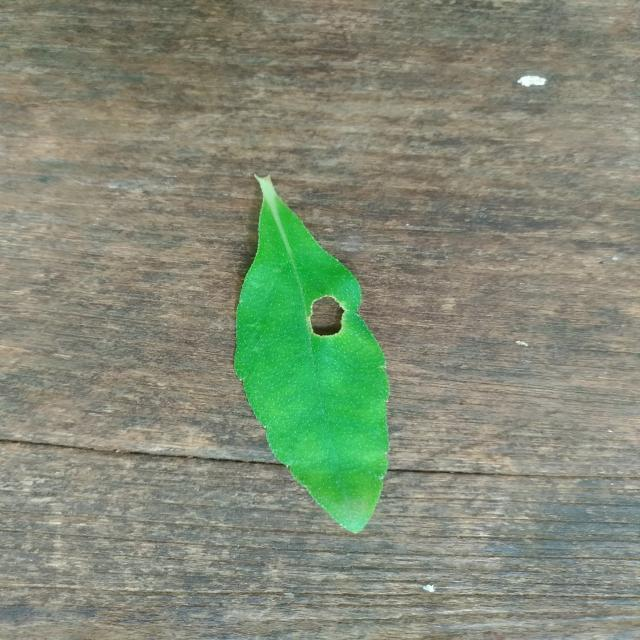bringaraja: (236, 176, 389, 532)
defectedbringaraja: (309, 296, 344, 336)
